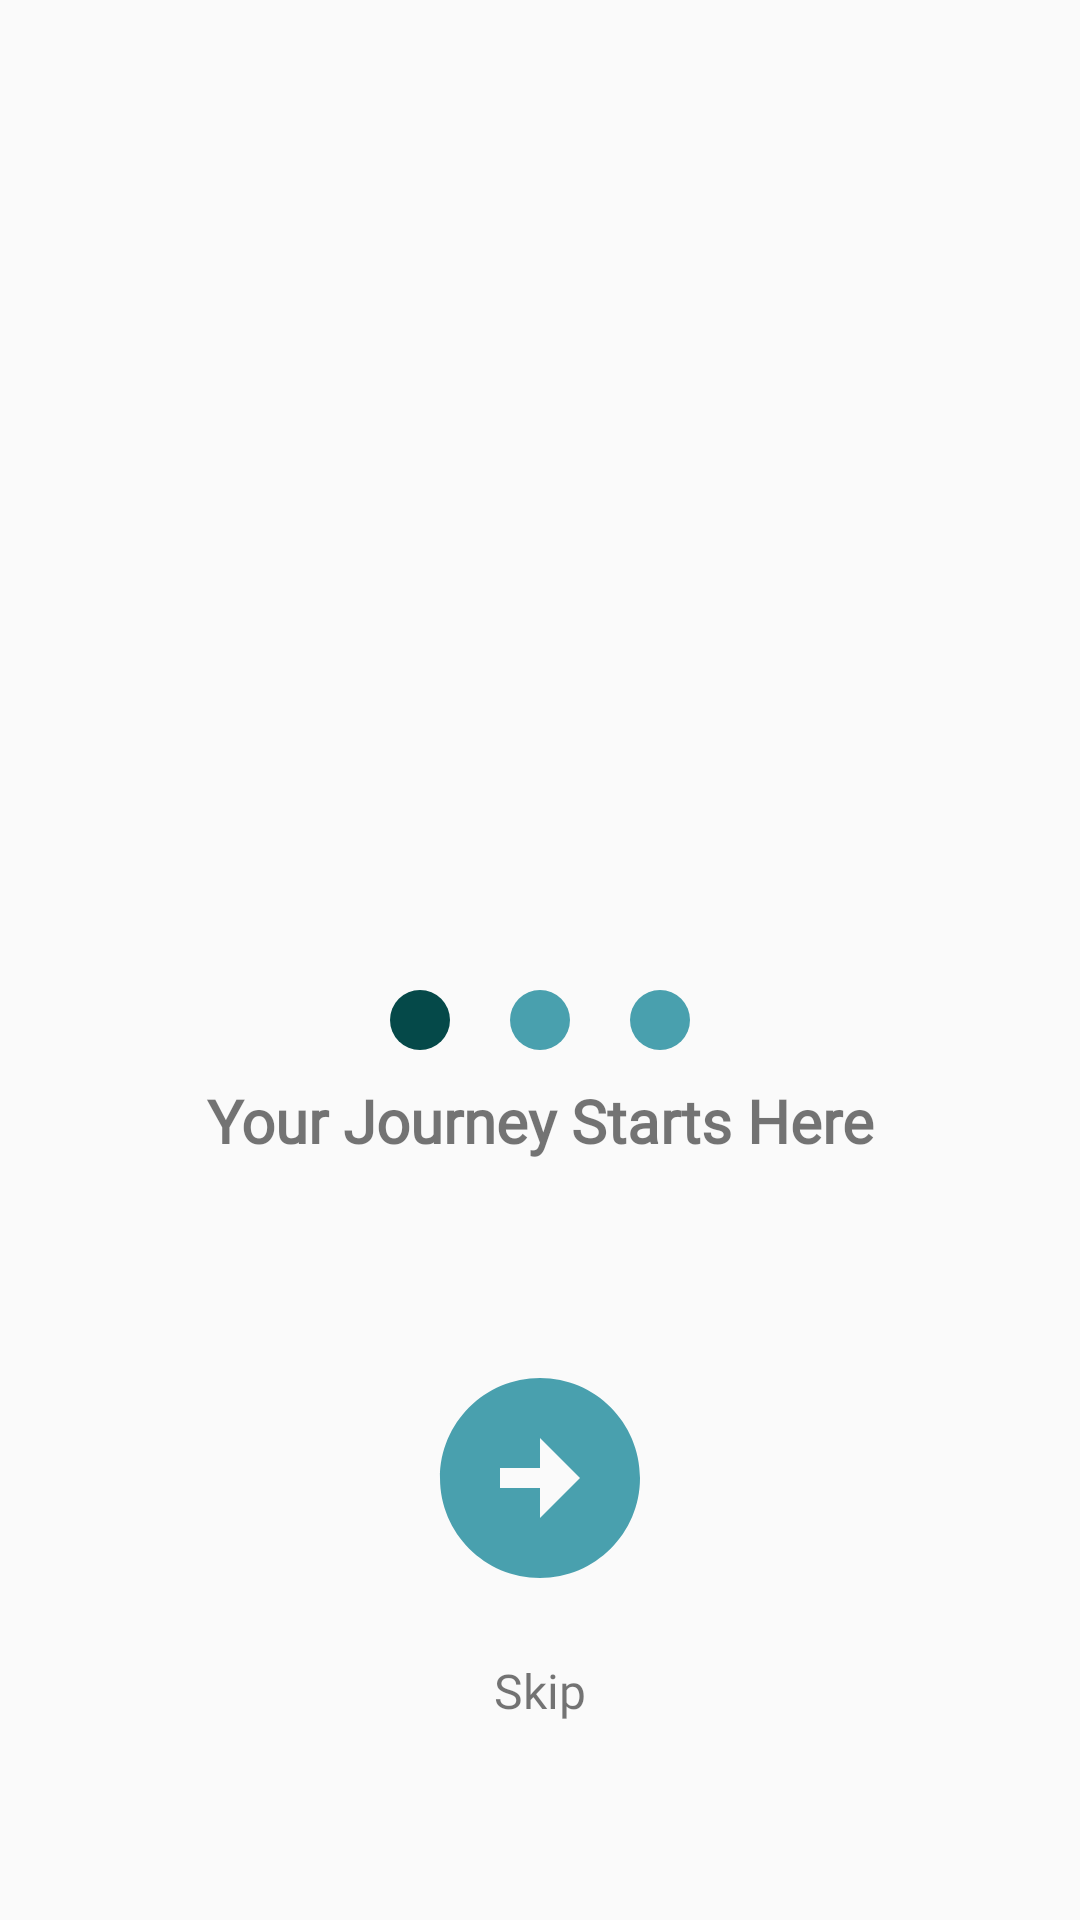

Screen size 1080w x 1920h. Icon name, then its center in pixels as point (x, y):
arrow circle right: point (540, 1478)
